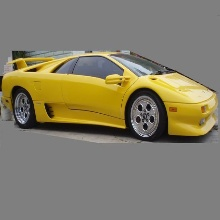no damage: (1, 50, 220, 143)
